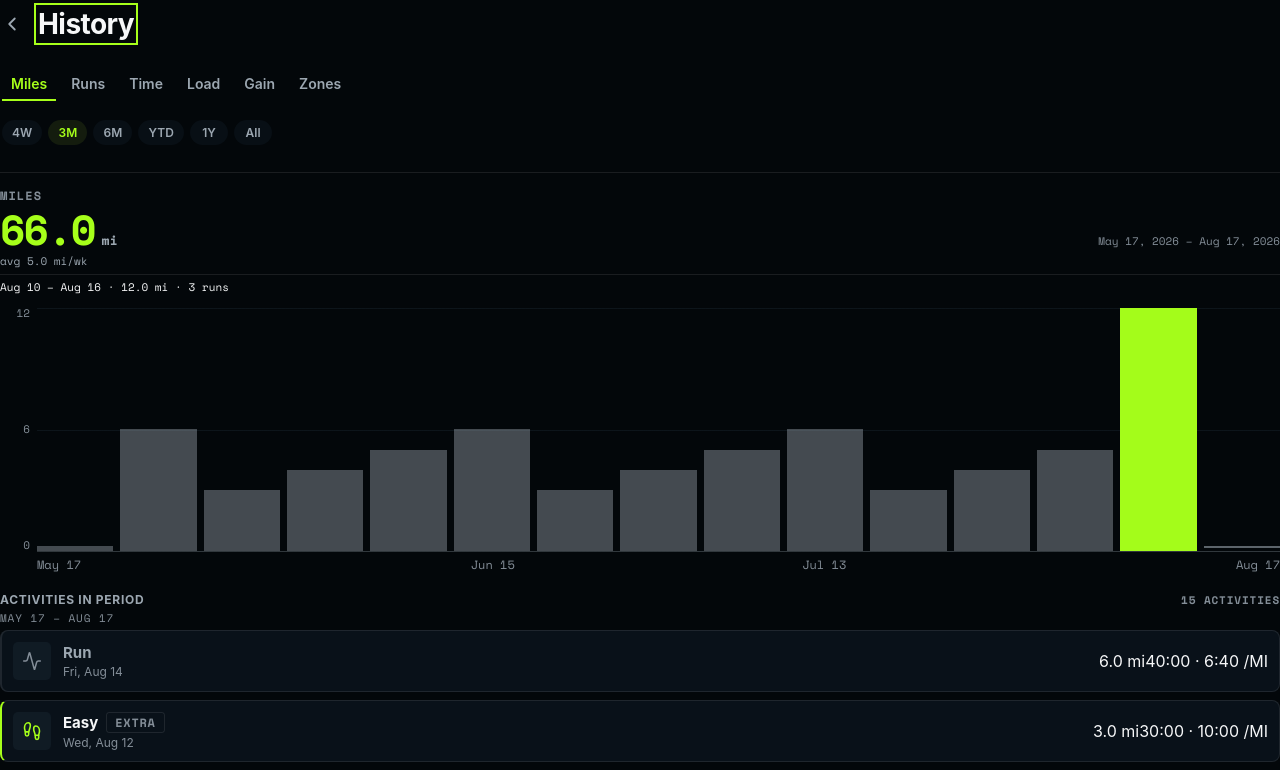
Test: History Explorer charts › draws each metric as what the metric means
This screenshot has width=1280, height=770.
Click the tab "Time": (146, 86) [118,64,174,108]
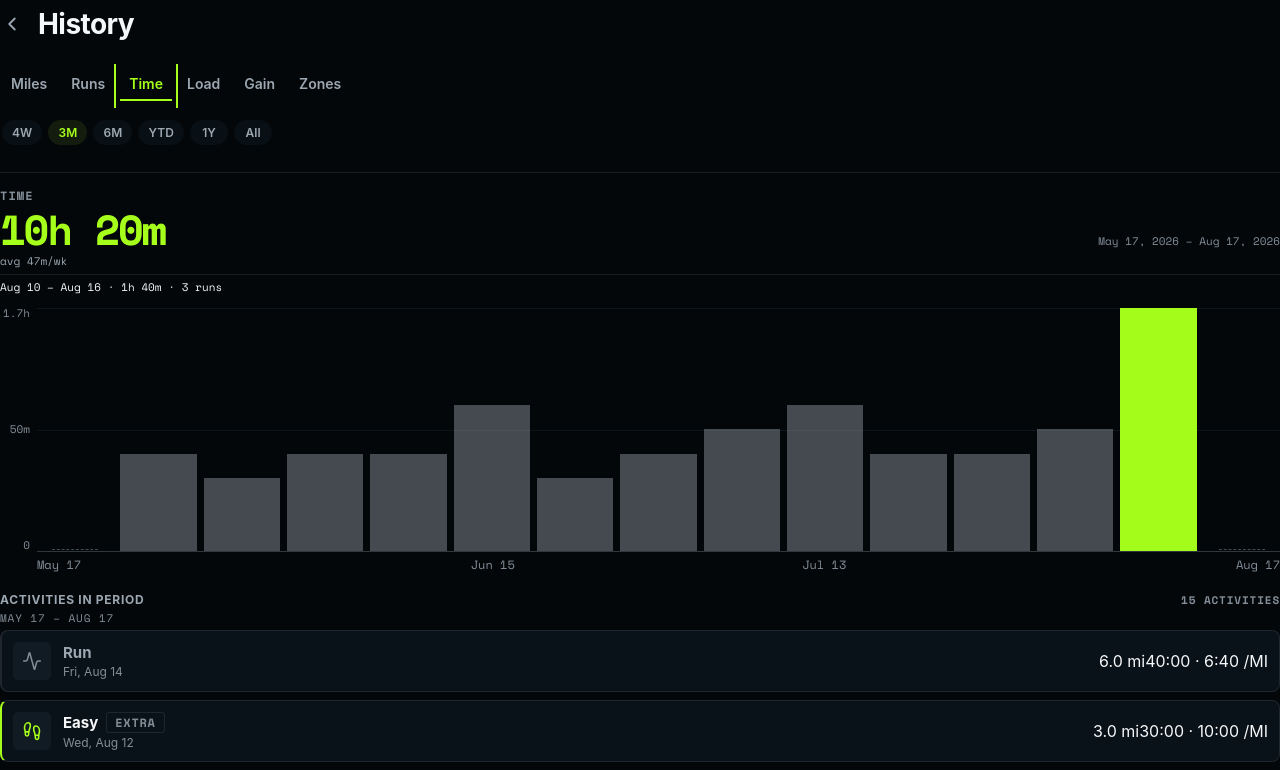
Click the tab "Runs": (88, 86) [60,64,116,108]
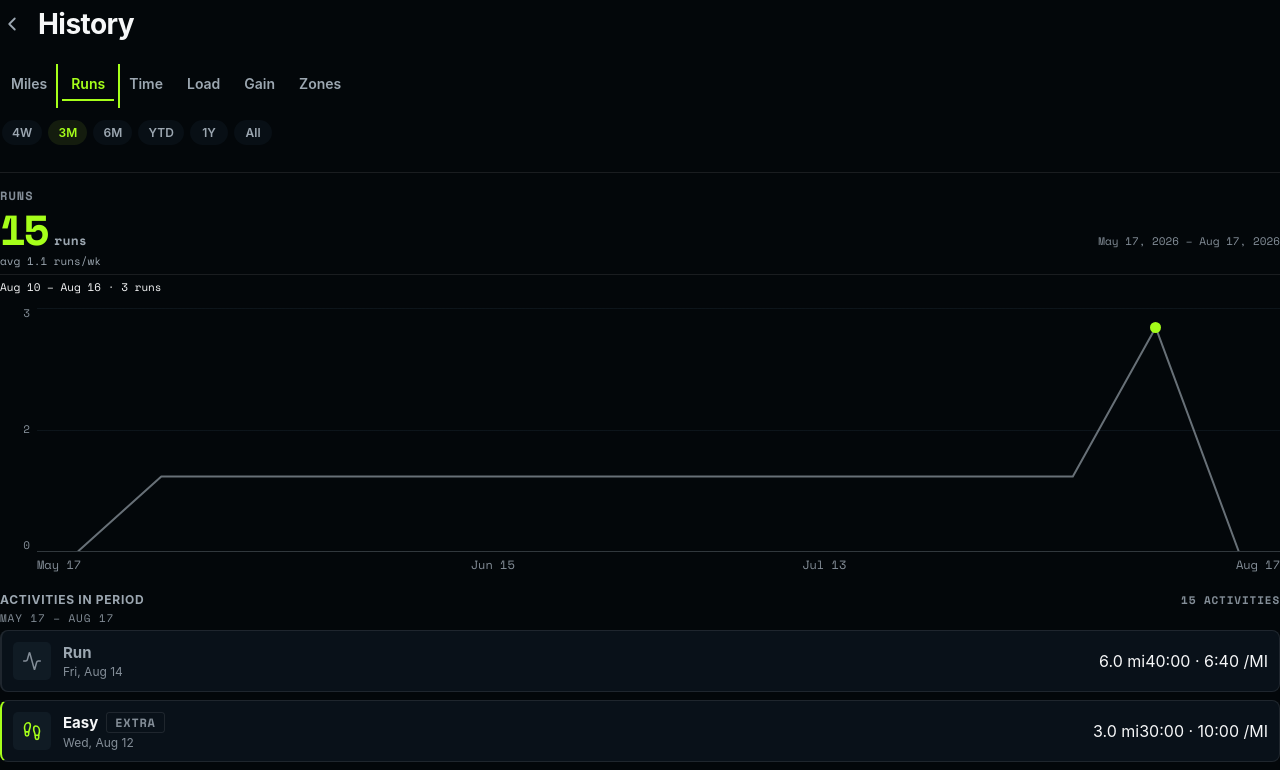
Check: the icon with class "history-chart__line" is shown, box [37,308,1279,551]
Click the tab "Load": (204, 86) [176,64,231,108]
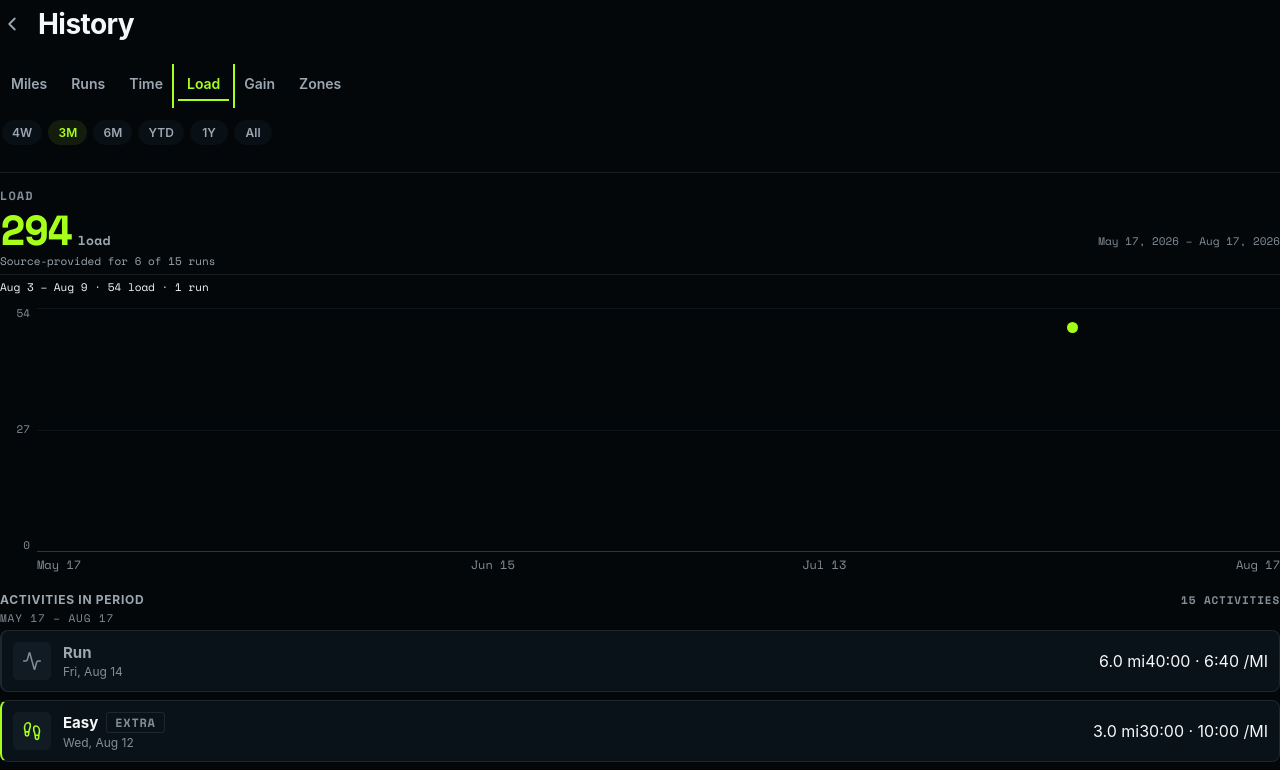
Check: the icon with class "history-chart__line" is shown, box [37,308,1279,551]
Click the tab "Gain": (260, 86) [233,64,286,108]
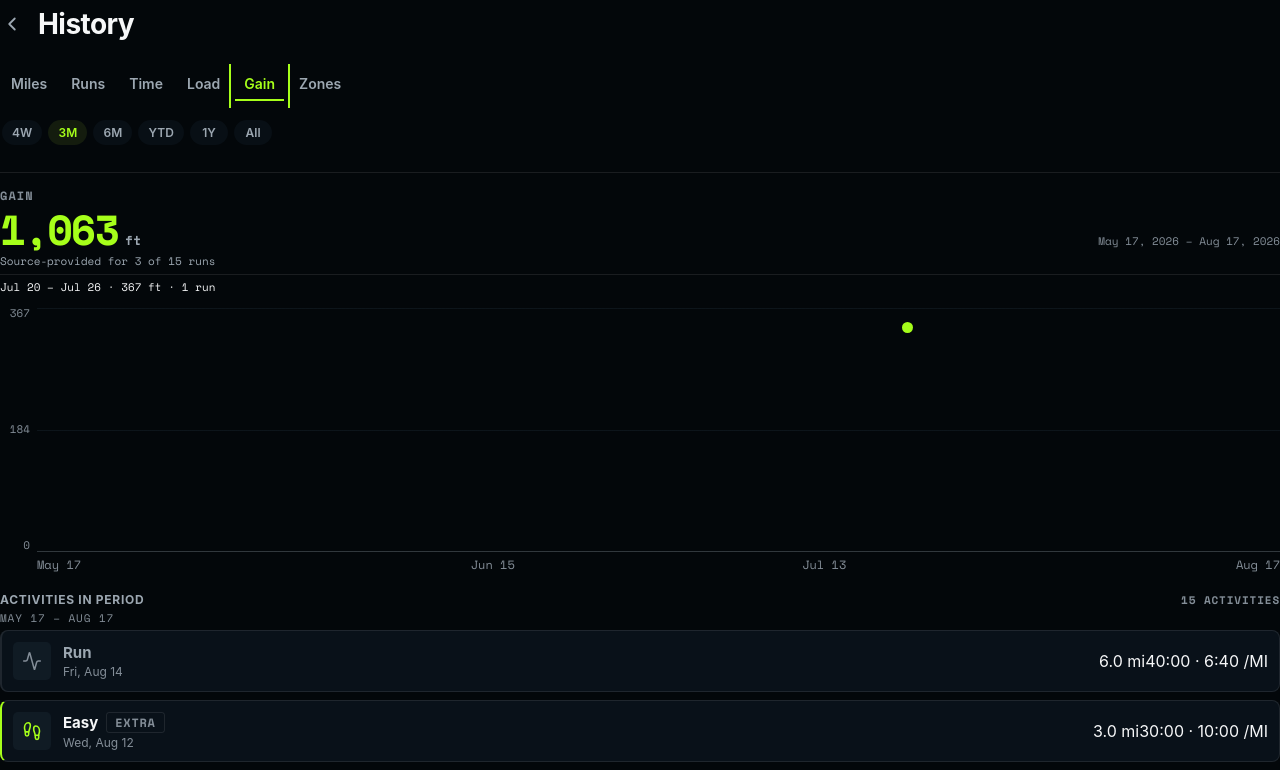
Check: the icon with class "history-chart__line" is shown, box [37,308,1279,551]
Click the tab "Zones": (320, 86) [288,64,352,108]
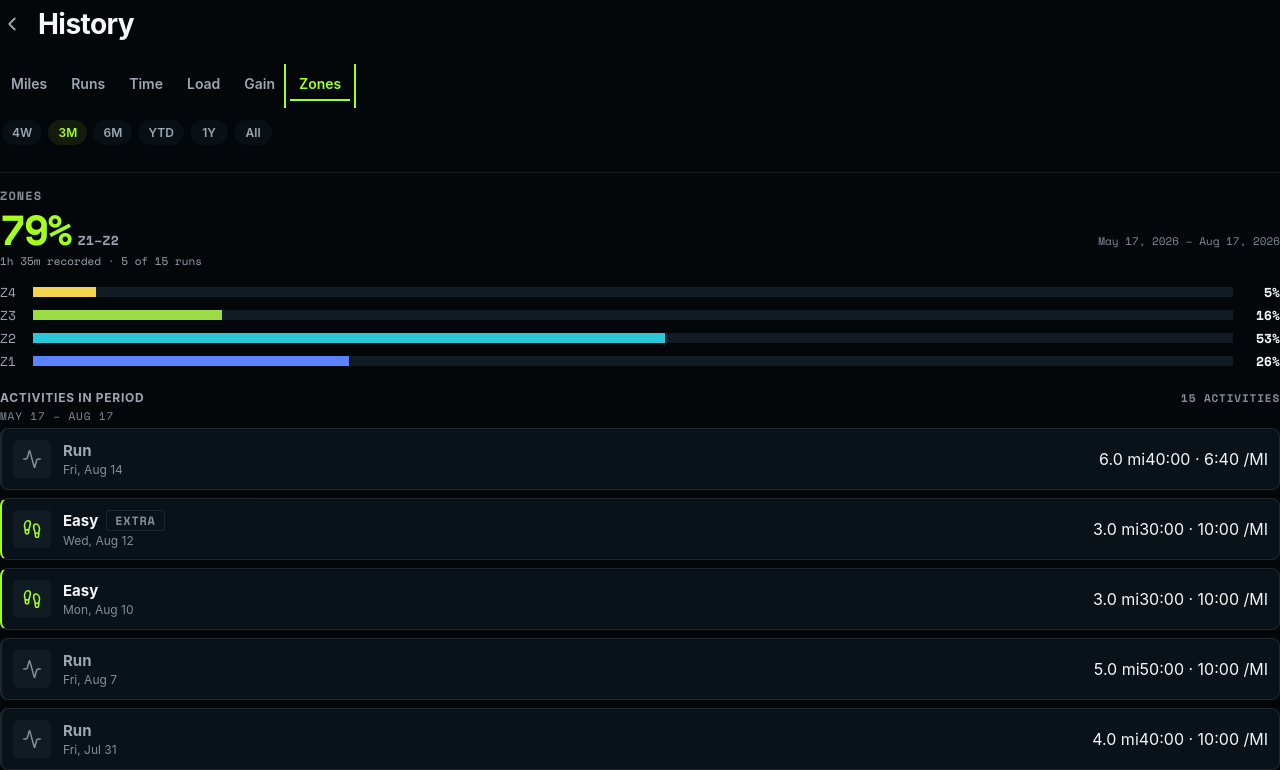
Check: the element with class "history-chart" is gone
Check: the element named "Heart-rate zone composition" is shown, box [0,282,1279,372]
